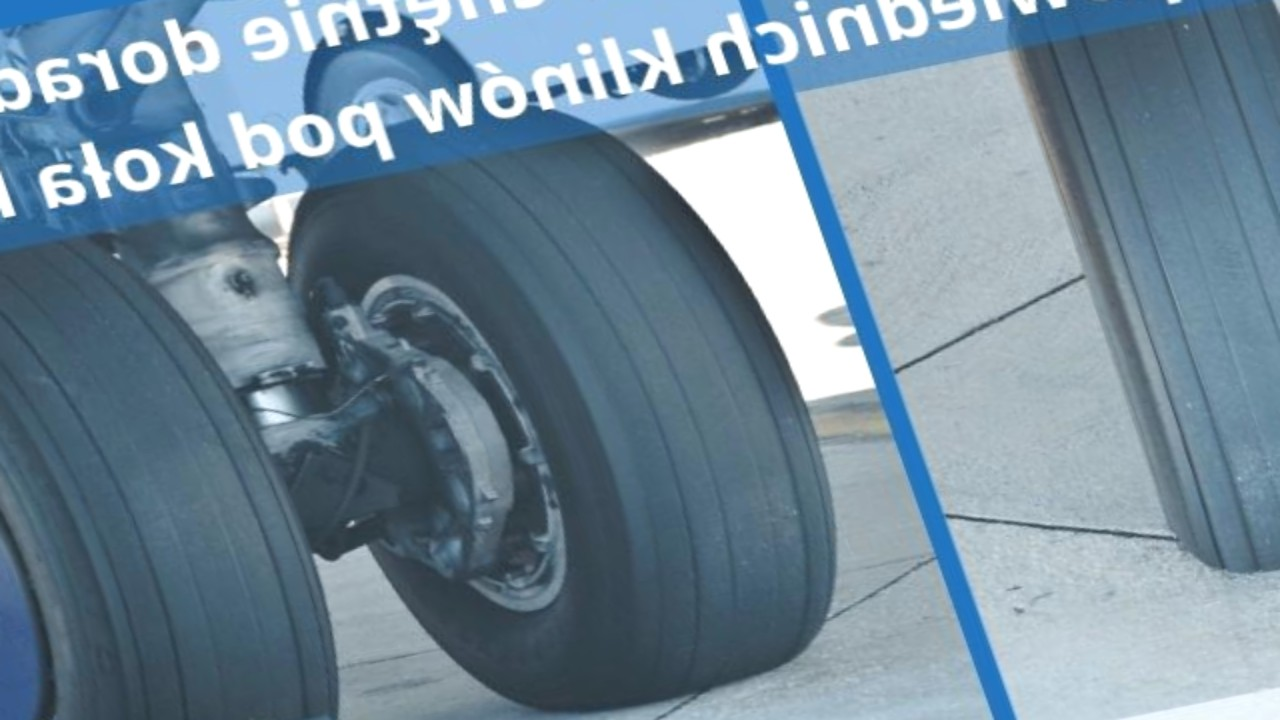wheel: (241, 88, 896, 720), (0, 202, 397, 720), (972, 0, 1280, 590), (270, 8, 502, 170)
